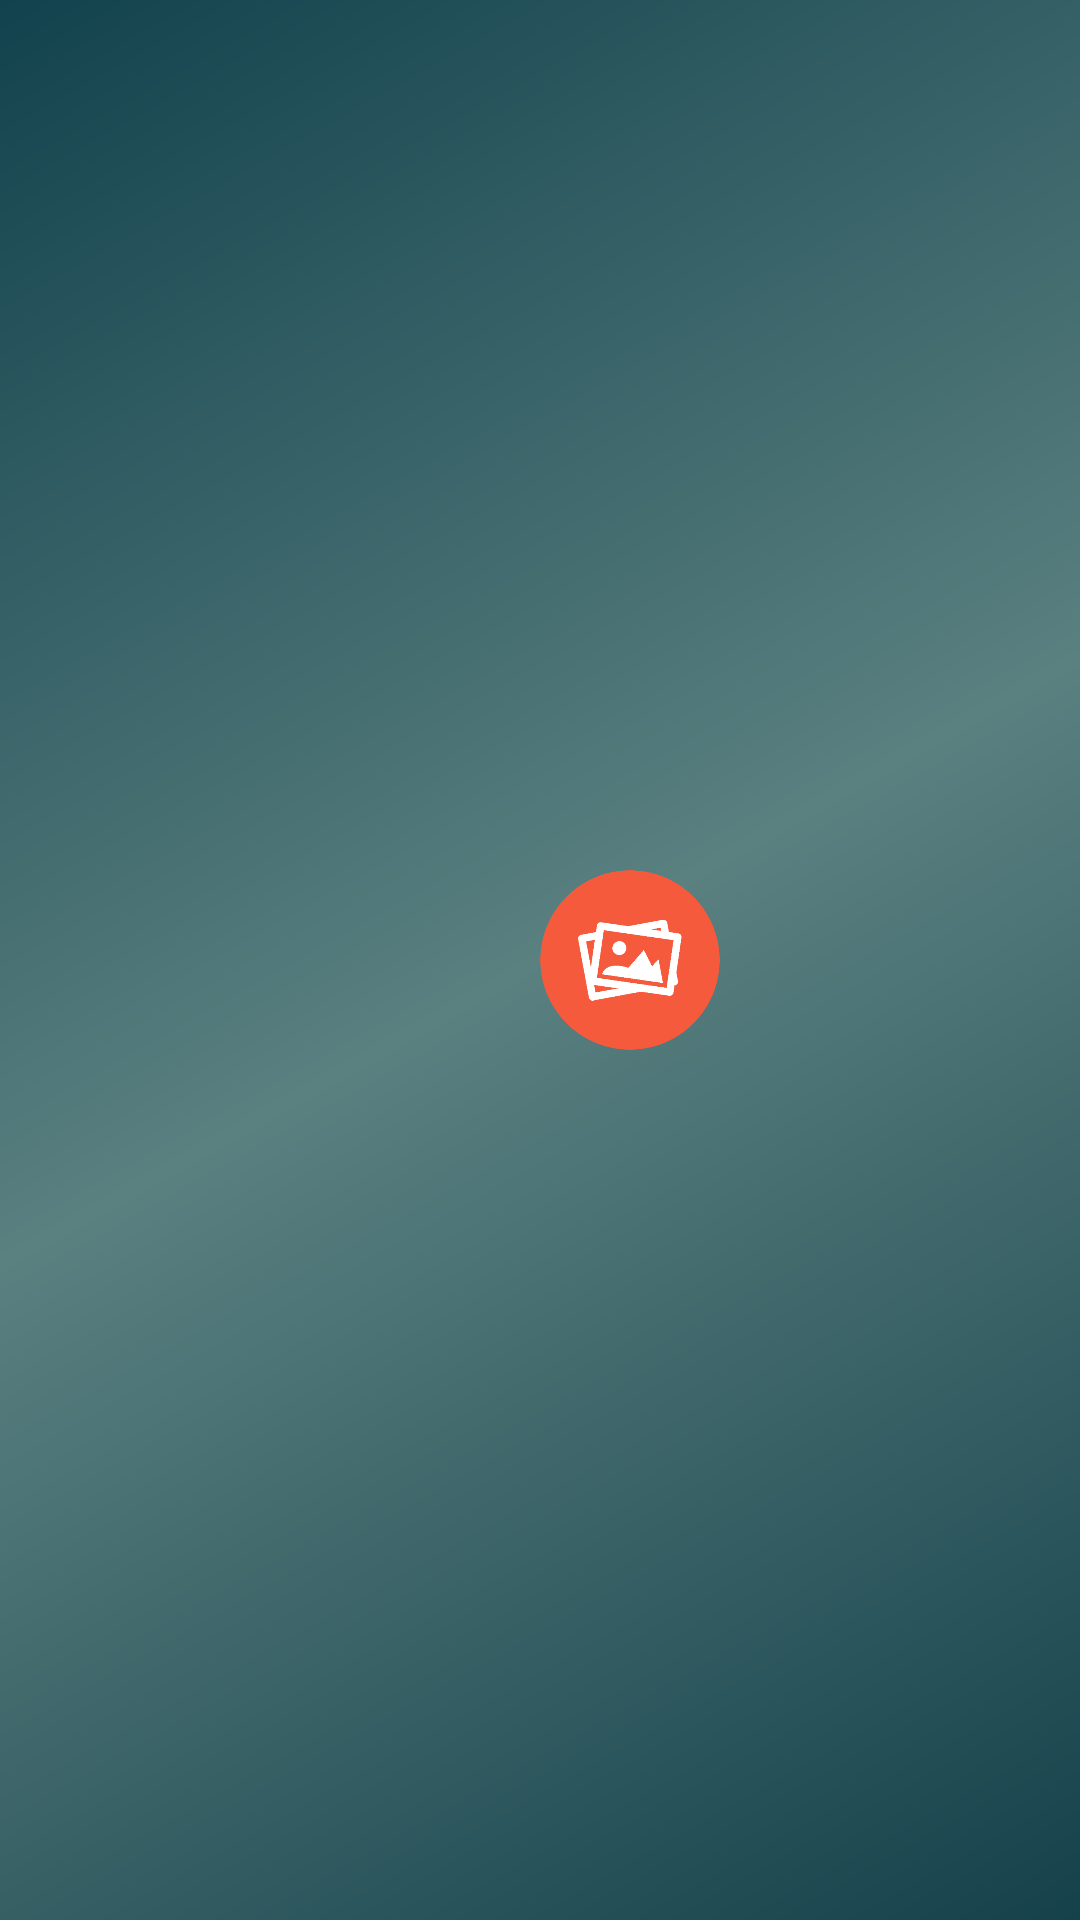

Screen size 1080 × 1920. Icon name, then its center in pixels as (x=x, y=y):
gallery: (x=630, y=960)
